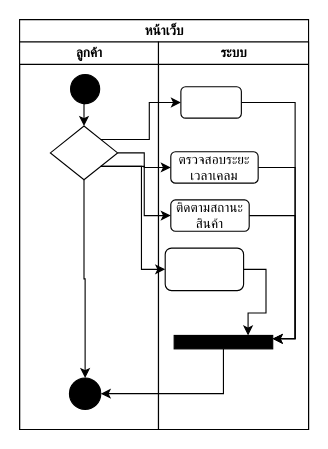
Some shapes in this 328 by 449 pixel diagram are drawn without their labels. Here are the shapes that lost their labels. From the top down, the centre of each, then its label:
At [210,102]: "login".
At [204,269]: "คู่มือการใช้งาน".
